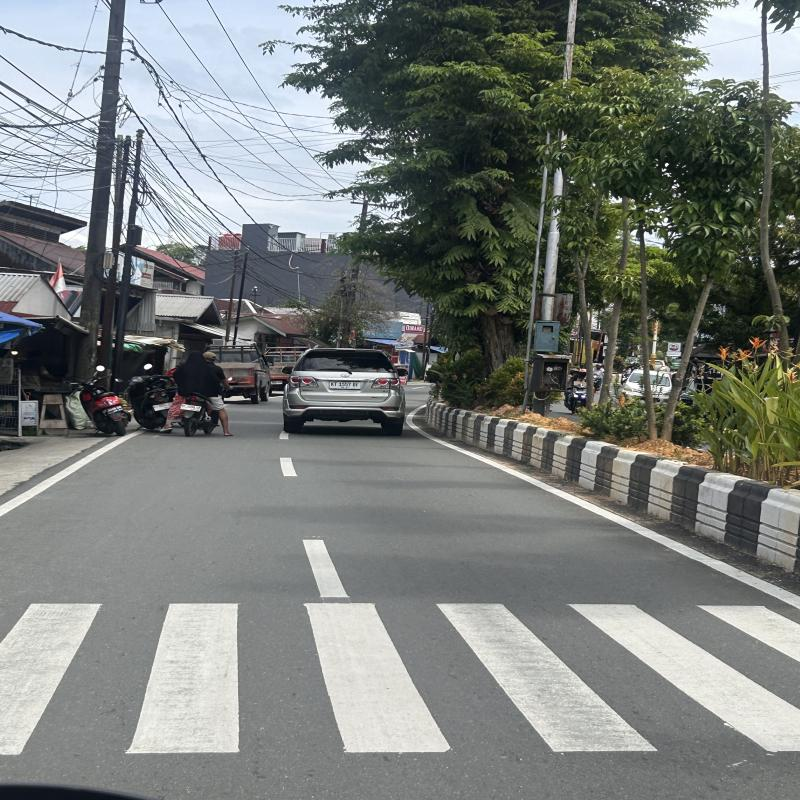license plate on a car: (329, 381, 361, 389)
